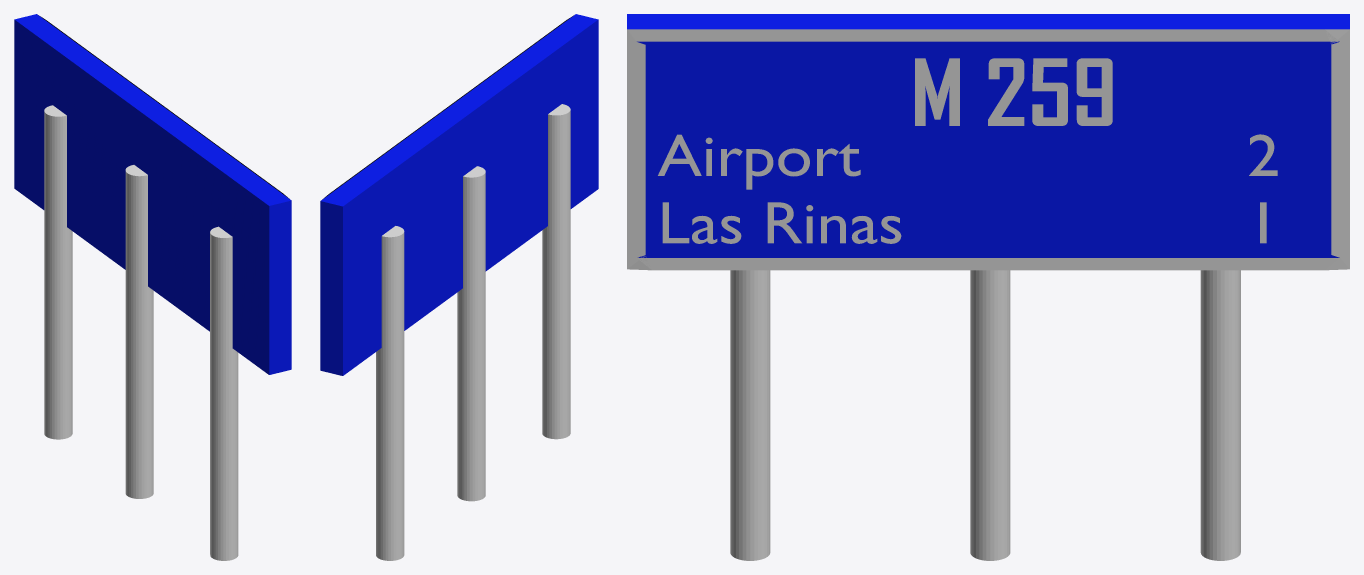
The model's file is UK_distance_sign_3.fbx.
The picture shows the model from 3 angles, left to right: view 1: azimuth 30°, elevation 25°; view 2: azimuth 150°, elevation 25°; view 3: azimuth 270°, elevation 25°; orthographic projection. The views are drawn at different scales.
Parts seen in each view (by area): view 1: Cube.001, Cylinder.001, Cylinder.002, Cylinder; view 2: Cube.001, Cylinder.001, Cylinder.002, Cylinder; view 3: Cube.001, Cylinder.001, Cylinder.002, Cylinder, Text, Text.004, Text.001.
Boxes of the visible parts, bbox=[...] form: Cube.001: bbox=[14, 14, 291, 374]; Cylinder.001: bbox=[44, 105, 72, 439]; Cylinder.002: bbox=[125, 165, 153, 498]; Cylinder: bbox=[210, 226, 238, 560]; Cube.001: bbox=[320, 14, 598, 375]; Cylinder.001: bbox=[376, 226, 404, 560]; Cylinder.002: bbox=[457, 166, 485, 501]; Cylinder: bbox=[542, 104, 570, 439]; Cube.001: bbox=[627, 14, 1349, 270]; Cylinder.001: bbox=[1200, 270, 1240, 560]; Cylinder.002: bbox=[970, 270, 1010, 560]; Cylinder: bbox=[730, 270, 770, 560]; Text: bbox=[915, 58, 1112, 125]; Text.004: bbox=[662, 202, 901, 243]; Text.001: bbox=[658, 134, 860, 189].
Bounding box in the file's own units: 6.34 × 59.37 × 72.02.
